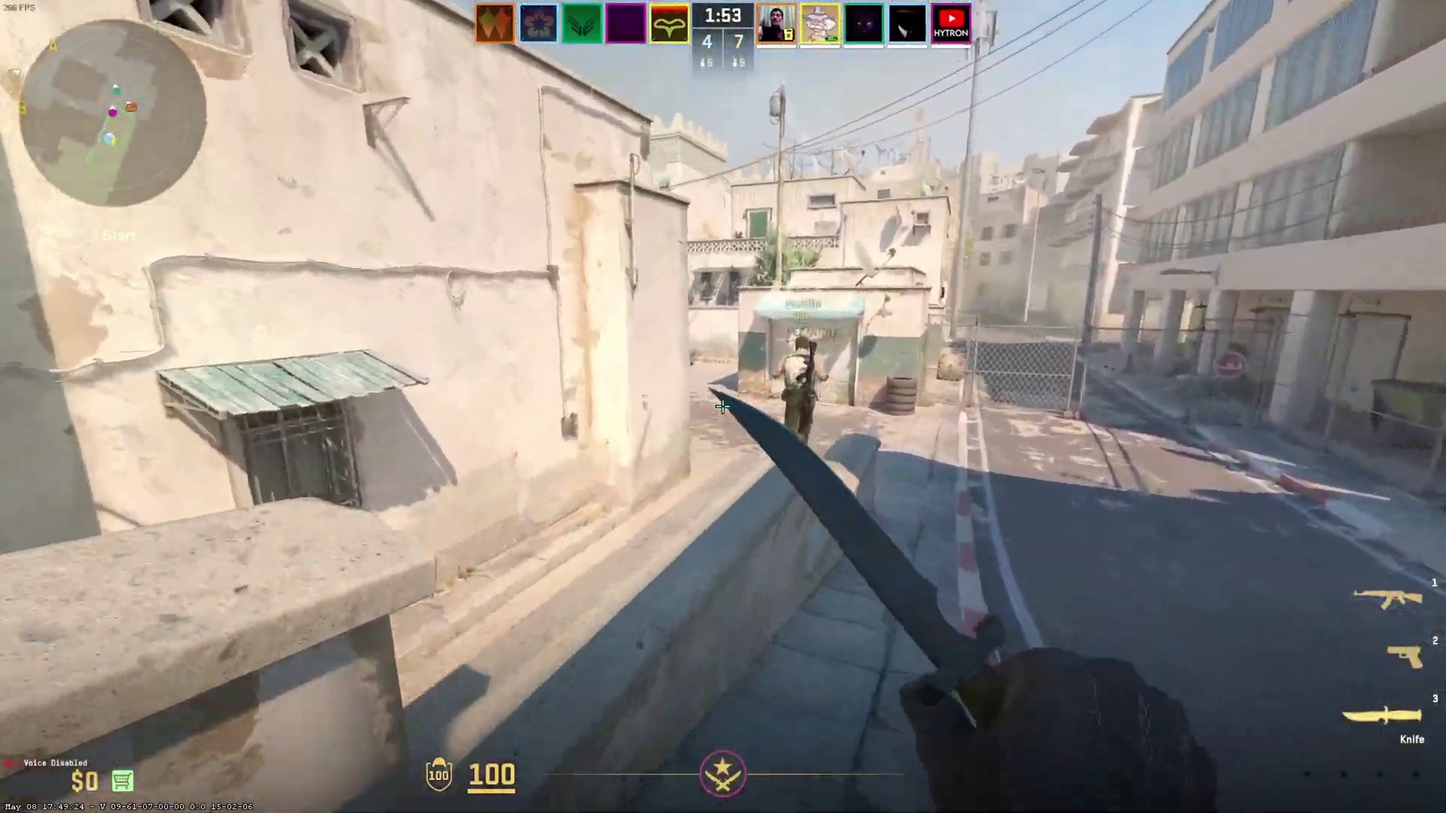Terrorist: (784, 336, 818, 444)
